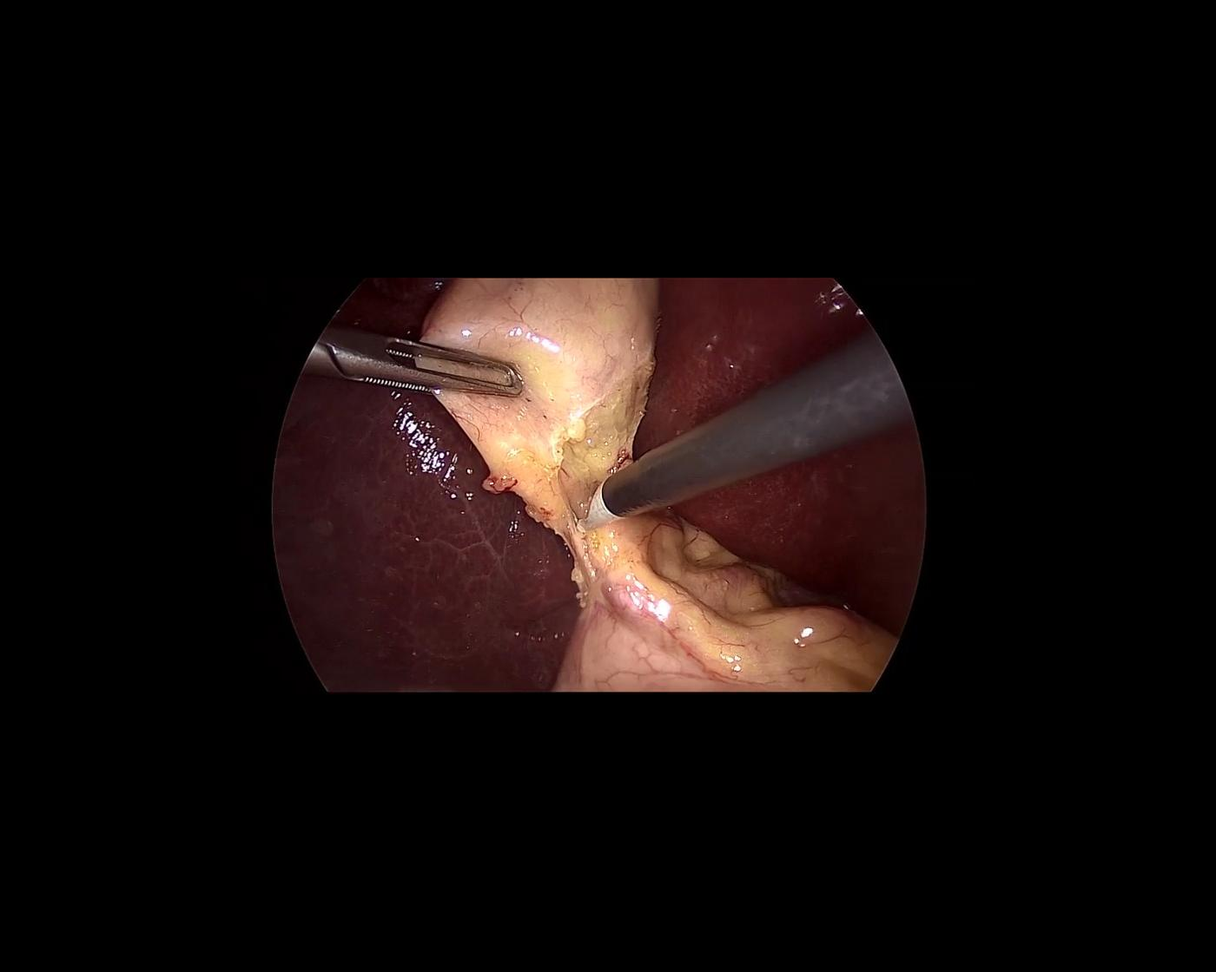Cautery: (548, 332, 917, 533)
Forceps: (300, 325, 528, 420)
Gallbladder: (416, 274, 660, 507)
Liver: (278, 374, 582, 694), (563, 206, 871, 463), (662, 428, 955, 679)
